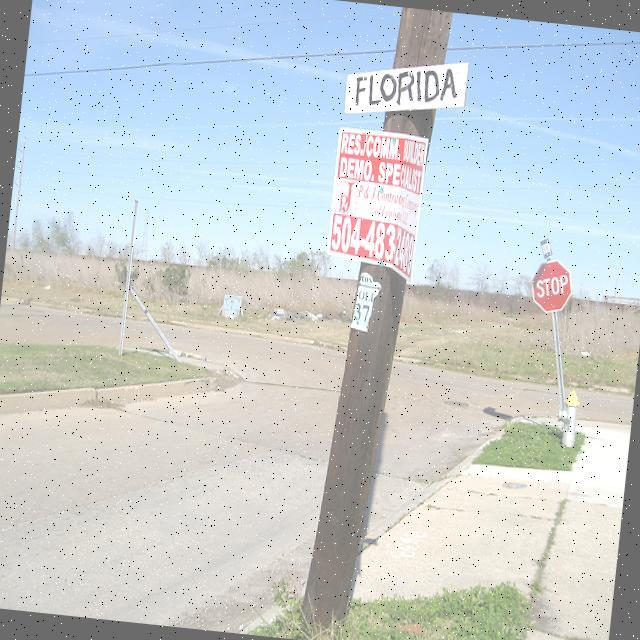fire_hydrant: (551, 387, 581, 448)
